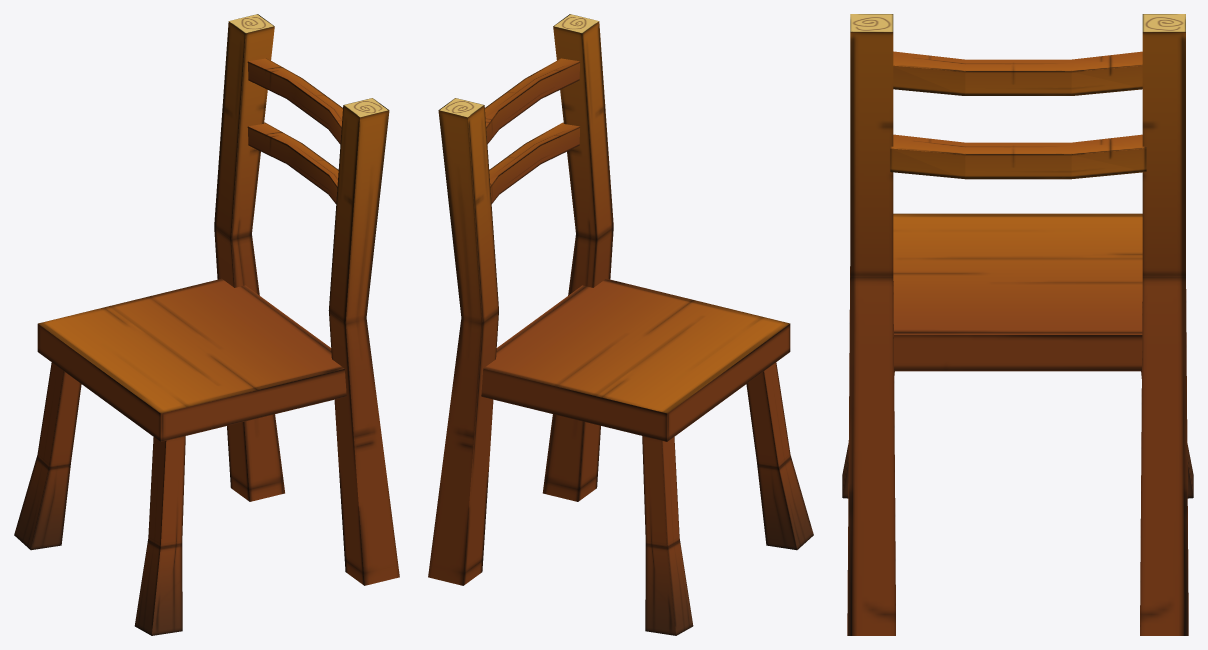
Rendered from Chair.FBX.
3 views of the same model, side by side, from view 1: azimuth 30°, elevation 25°; view 2: azimuth 150°, elevation 25°; view 3: azimuth 270°, elevation 25° (orthographic). The views are drawn at different scales.
Parts seen in each view (by area): view 1: Box004; view 2: Box004; view 3: Box004.
Boxes of the visible parts, bbox=[...] form: Box004: bbox=[14, 14, 399, 635]; Box004: bbox=[428, 14, 813, 635]; Box004: bbox=[842, 14, 1193, 635].
Bounding box in the file's own units: 149 × 268 × 142.
